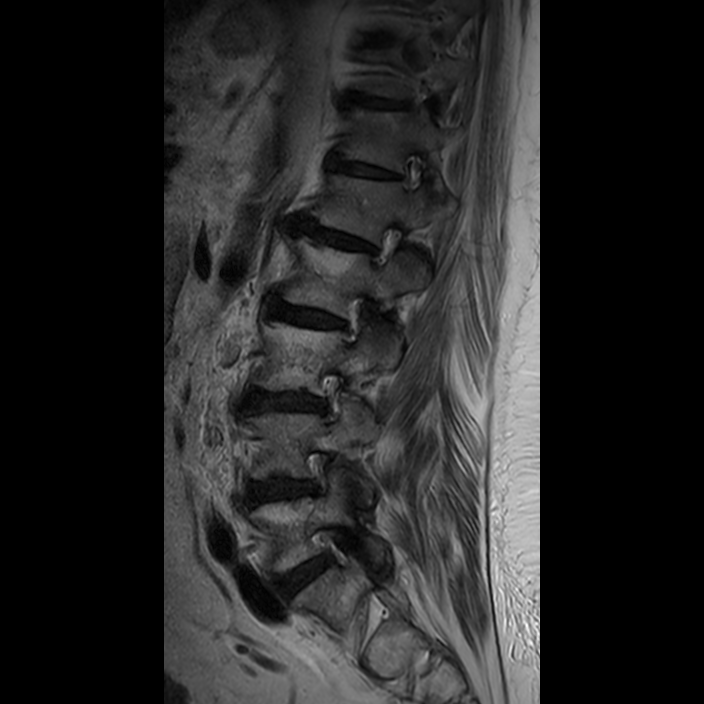LFS0: (291, 438, 347, 511), (299, 356, 351, 432), (314, 514, 372, 581), (355, 209, 408, 279)
